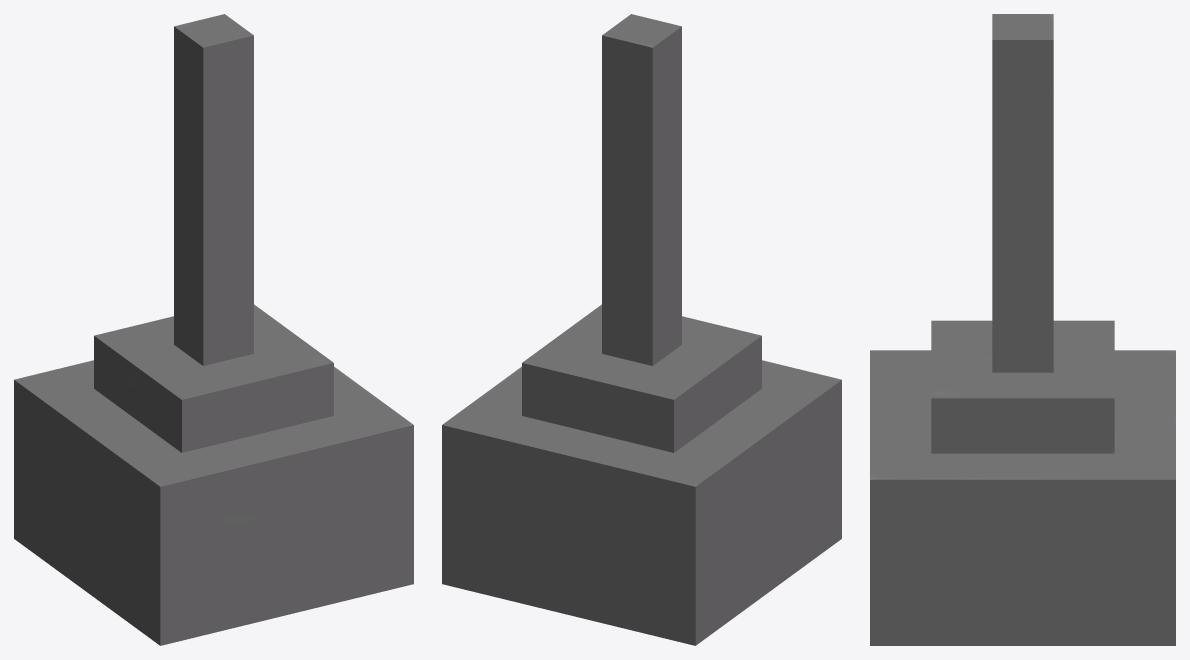
The model's file is LightBulb.fbx.
The picture shows the model from 3 angles, left to right: view 1: azimuth 30°, elevation 25°; view 2: azimuth 150°, elevation 25°; view 3: azimuth 270°, elevation 25°; orthographic projection. The views are drawn at different scales.
Visible parts, largest first — view 1: LightBulb; view 2: LightBulb; view 3: LightBulb.
Part boxes in pixels (bbox=[...]): LightBulb: bbox=[14, 14, 413, 645]; LightBulb: bbox=[442, 14, 841, 645]; LightBulb: bbox=[870, 14, 1175, 645].
Bounding box in the file's own units: 500 × 500 × 1000.
Materials: 1 (1 with a texture image).
